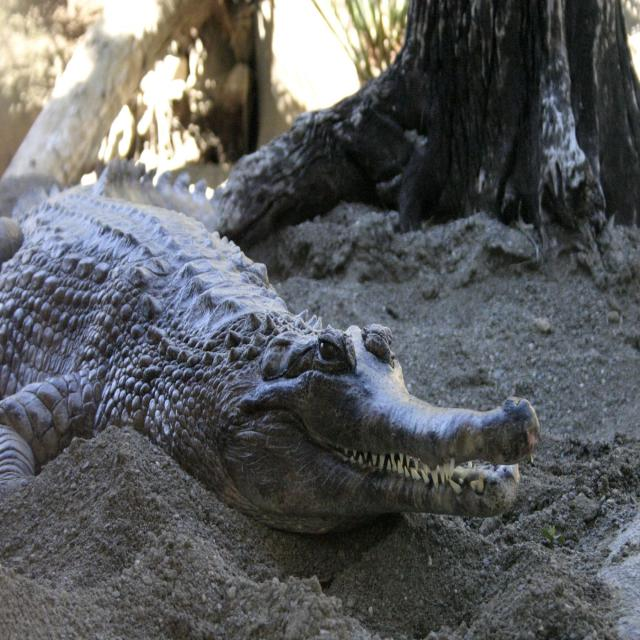crocodile: (0, 157, 587, 581)
